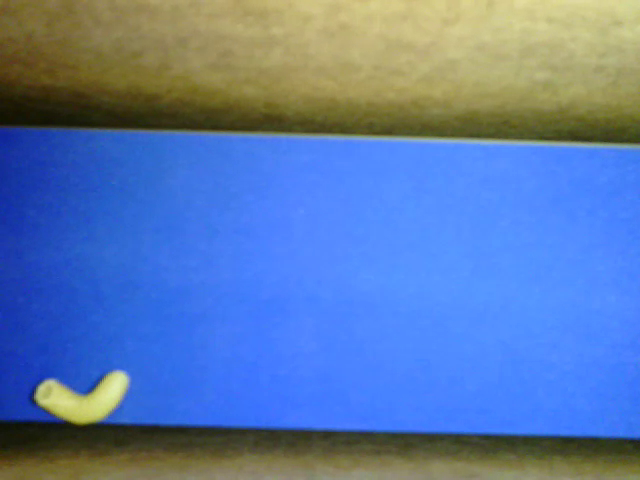elbow: (33, 368, 129, 423)
